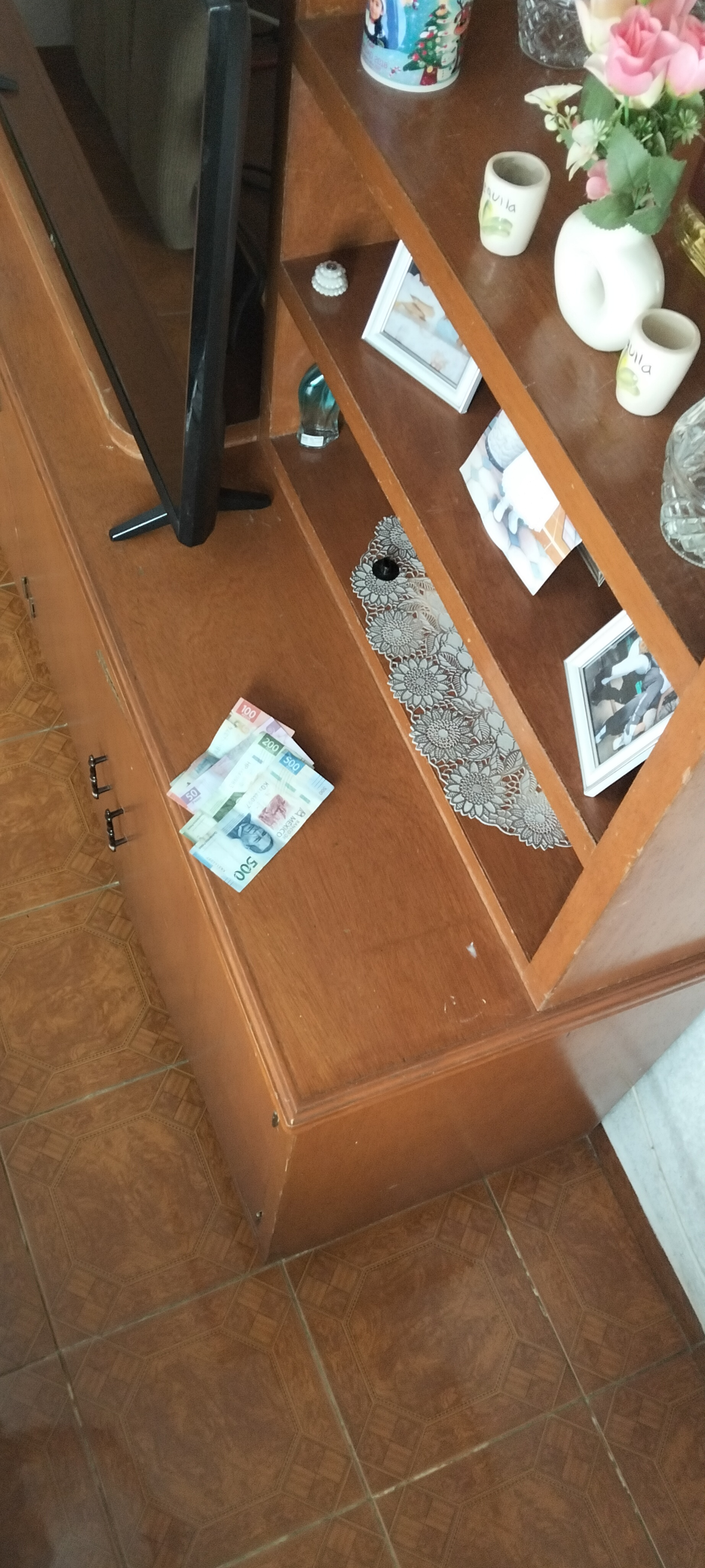billetes: (159, 642, 352, 926)
